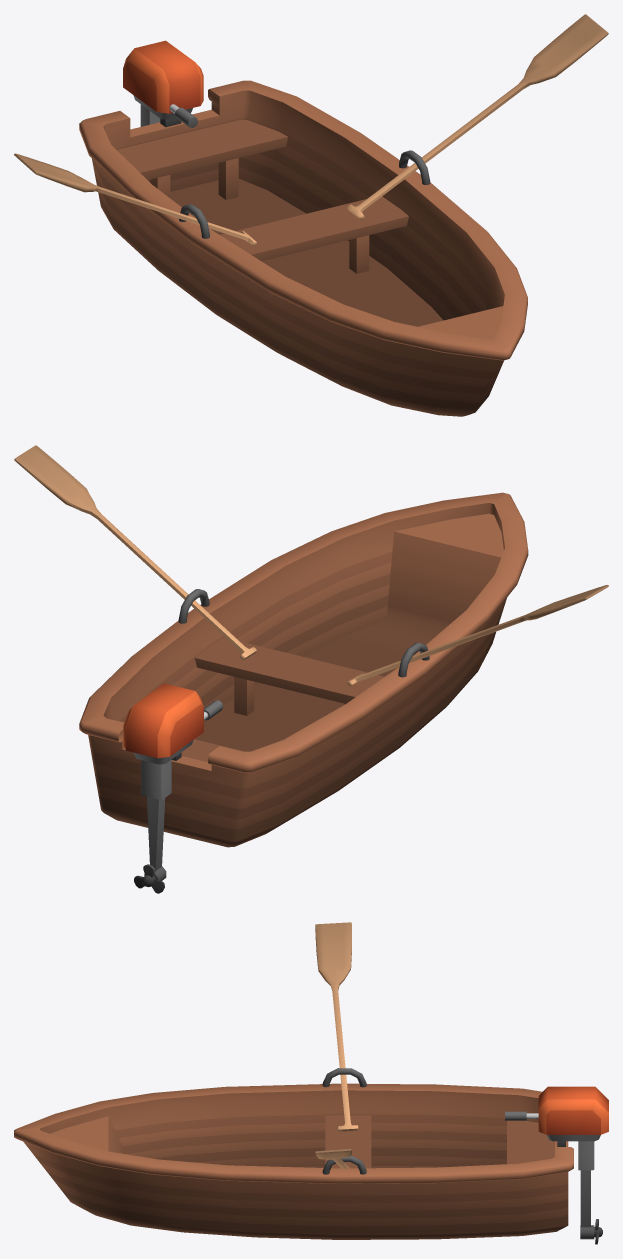
Rendered from fishing boat with motor.fbx.
The picture shows the model from 3 angles, top to bottom: view 1: azimuth 30°, elevation 25°; view 2: azimuth 150°, elevation 25°; view 3: azimuth 270°, elevation 25°; orthographic projection. The views are drawn at different scales.
Parts seen in each view (by area): view 1: fishing_boat_with_motor, boat_motor, paddle_fishing_boat_motor_l, paddle_fishing_boat_motor_r; view 2: fishing_boat_with_motor, boat_motor, paddle_fishing_boat_motor_l, paddle_fishing_boat_motor_r; view 3: fishing_boat_with_motor, boat_motor, paddle_fishing_boat_motor_r.
Boxes of the visible parts, x1,y1,x2,y2 form: fishing_boat_with_motor: (79,80,527,416); boat_motor: (123,40,203,127); paddle_fishing_boat_motor_l: (347,14,608,219); paddle_fishing_boat_motor_r: (14,153,256,245); fishing_boat_with_motor: (79,492,528,847); boat_motor: (123,683,223,880); paddle_fishing_boat_motor_l: (14,445,256,660); paddle_fishing_boat_motor_r: (347,585,608,685); fishing_boat_with_motor: (14,1068,573,1239); boat_motor: (505,1086,608,1239); paddle_fishing_boat_motor_r: (315,922,358,1131).
Size of the model in its own units: 423 by 177 by 467.
Materials: 1 (1 with a texture image).
